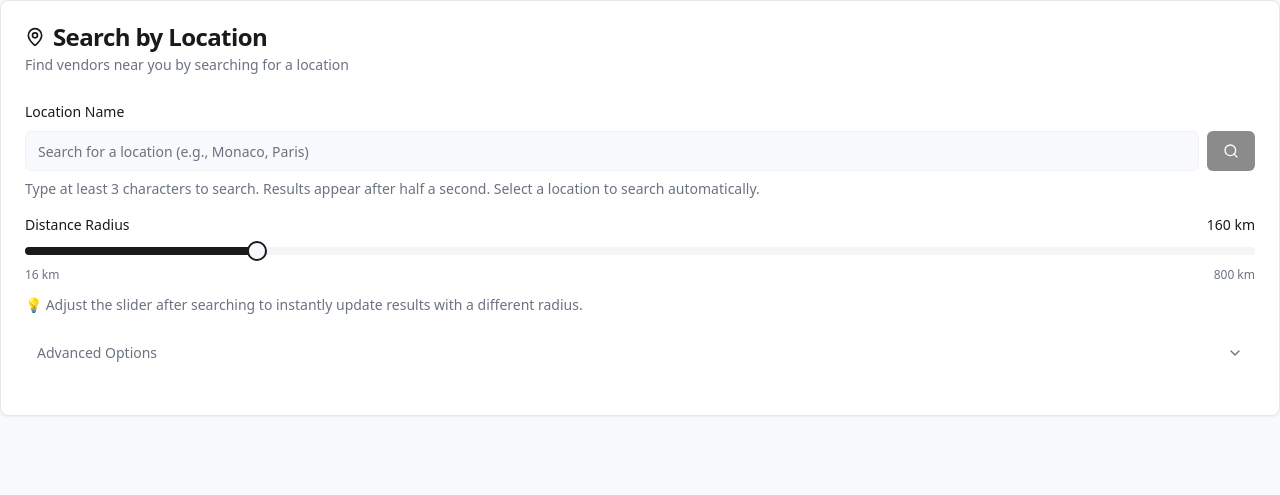
it: LocationSearchFilter › Error Handling › should display error message when API returns 400
Type "xyzabc" into the field labelled "Location Name" at (612, 151), box [25,131,1199,171]
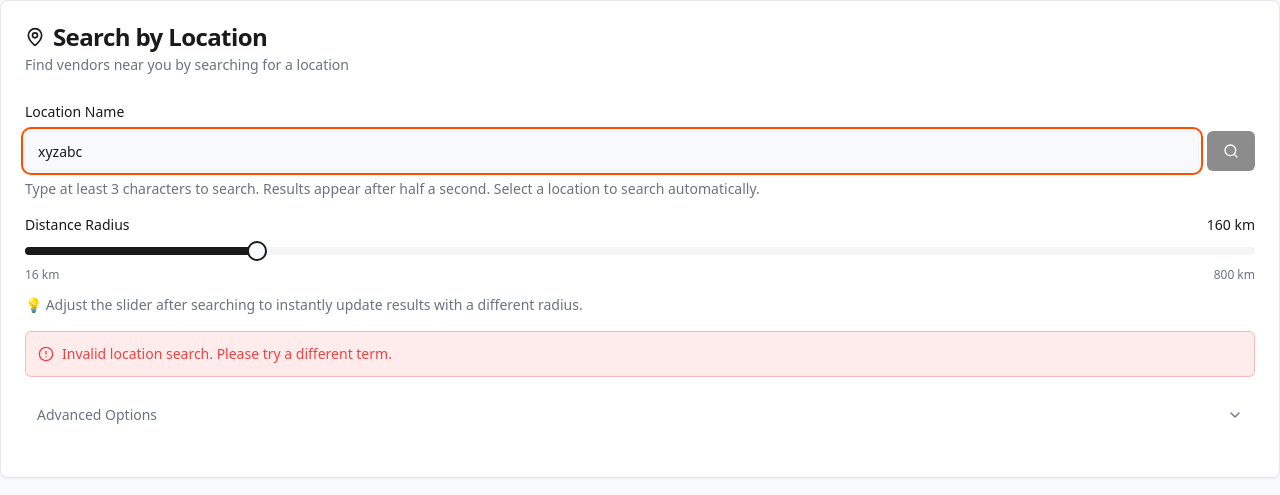
Check: the message "Invalid location search. Please try a different term." is shown, box [25,331,1255,377]
Check: the text "Invalid location search. Please try a different term." is shown, box [62,344,392,364]
